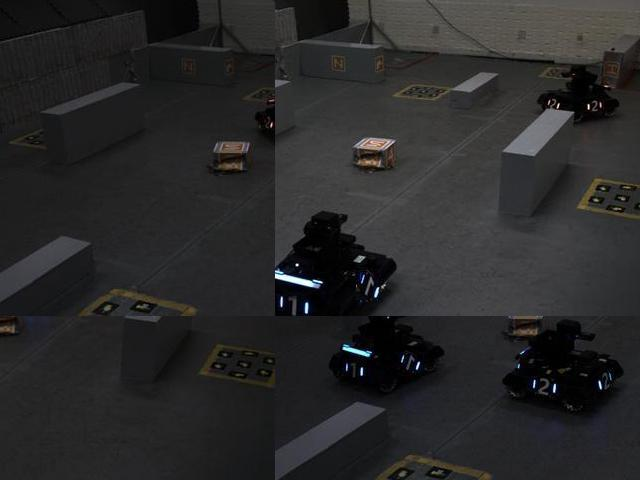armor: (524, 370, 561, 402), (275, 288, 311, 315), (357, 271, 382, 302), (399, 349, 425, 377), (341, 358, 366, 385), (592, 368, 614, 396), (582, 97, 607, 116), (544, 92, 563, 116), (259, 114, 274, 133)
